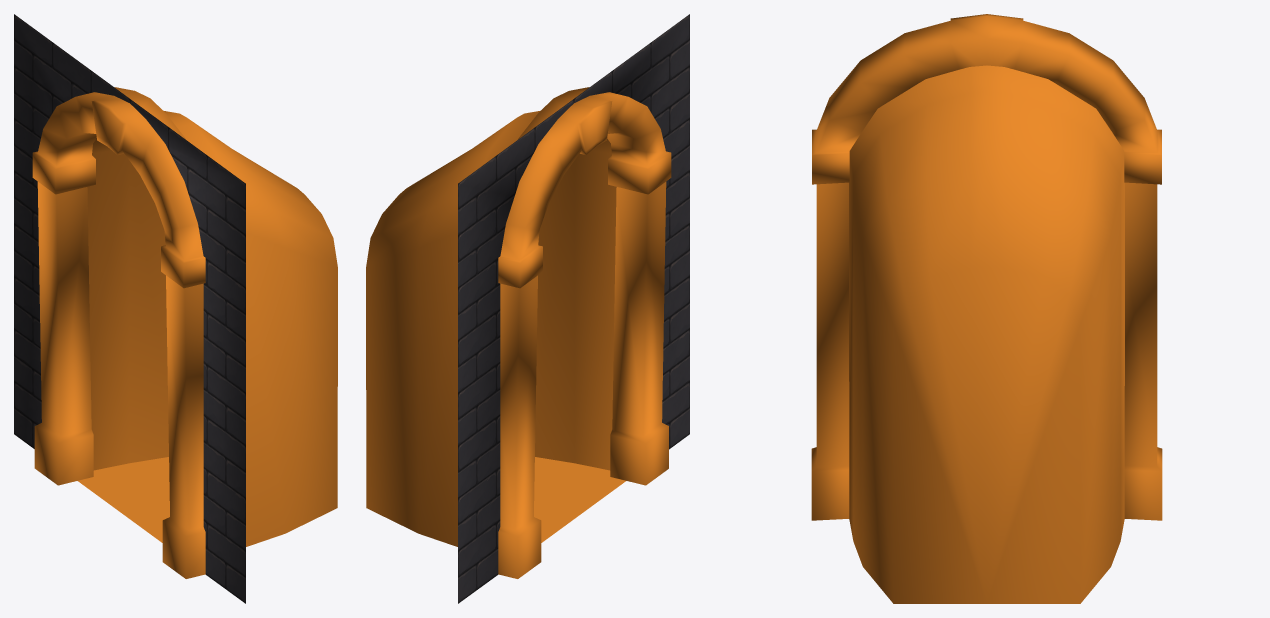
The model's file is Wall_Arch.fbx.
3 renders of one model, left to right at view 1: azimuth 30°, elevation 25°; view 2: azimuth 150°, elevation 25°; view 3: azimuth 270°, elevation 25°, orthographic. The views are drawn at different scales.
Visible parts, largest first — view 1: Wall_Arch; view 2: Wall_Arch; view 3: Wall_Arch.
Part boxes in pixels (left/top/right/bottom): Wall_Arch: left=14, top=14, right=337, bottom=603; Wall_Arch: left=366, top=14, right=689, bottom=603; Wall_Arch: left=811, top=14, right=1162, bottom=603.
Size of the model in its own units: 3.8 by 8 by 8.
